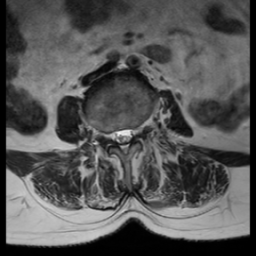CCS_normal: (120, 121, 127, 158)
LFS_normal: (134, 117, 141, 143)
LLS_normal: (127, 121, 134, 144)
RFS_stenosis: (105, 123, 112, 146)
RLS_normal: (112, 122, 120, 146)
